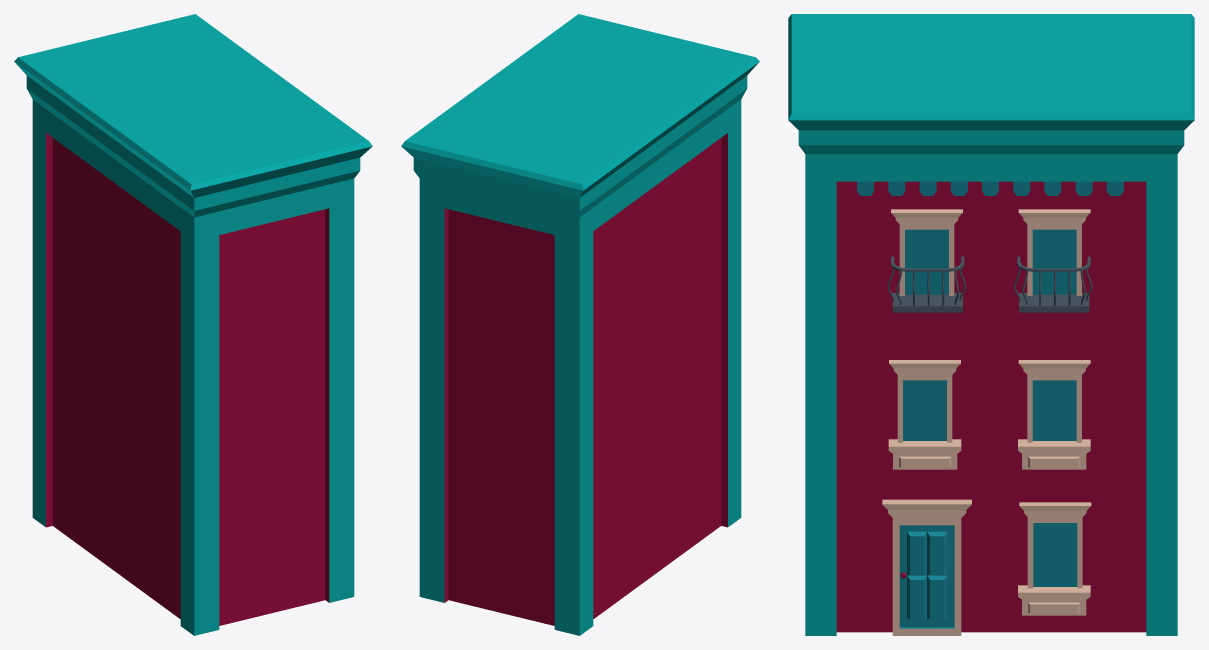
File: GreenBlue.fbx
3 views of the same model, side by side, from view 1: azimuth 30°, elevation 25°; view 2: azimuth 150°, elevation 25°; view 3: azimuth 270°, elevation 25° (orthographic). The views are drawn at different scales.
Parts seen in each view (by area): view 1: Building_lp; view 2: Building_lp; view 3: Building_lp, Frame_lp, Glass_lp, Door_lp, Bars_lp, Design_lp.
Boxes of the visible parts, x1,y1,x2,y2 form: Building_lp: (14,14,372,635); Building_lp: (401,14,759,635); Building_lp: (788,14,1194,635); Frame_lp: (882,209,1091,635); Glass_lp: (903,229,1077,586); Door_lp: (899,525,954,626); Bars_lp: (887,256,1092,312); Design_lp: (857,181,1123,195).
Size of the model in its own units: 11.73 by 26.76 by 18.7.
